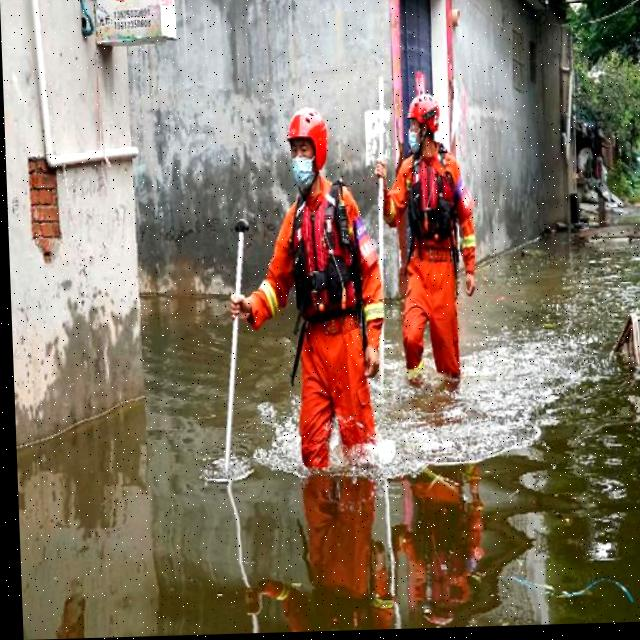rescuer: (218, 97, 396, 499), (353, 72, 489, 412)
